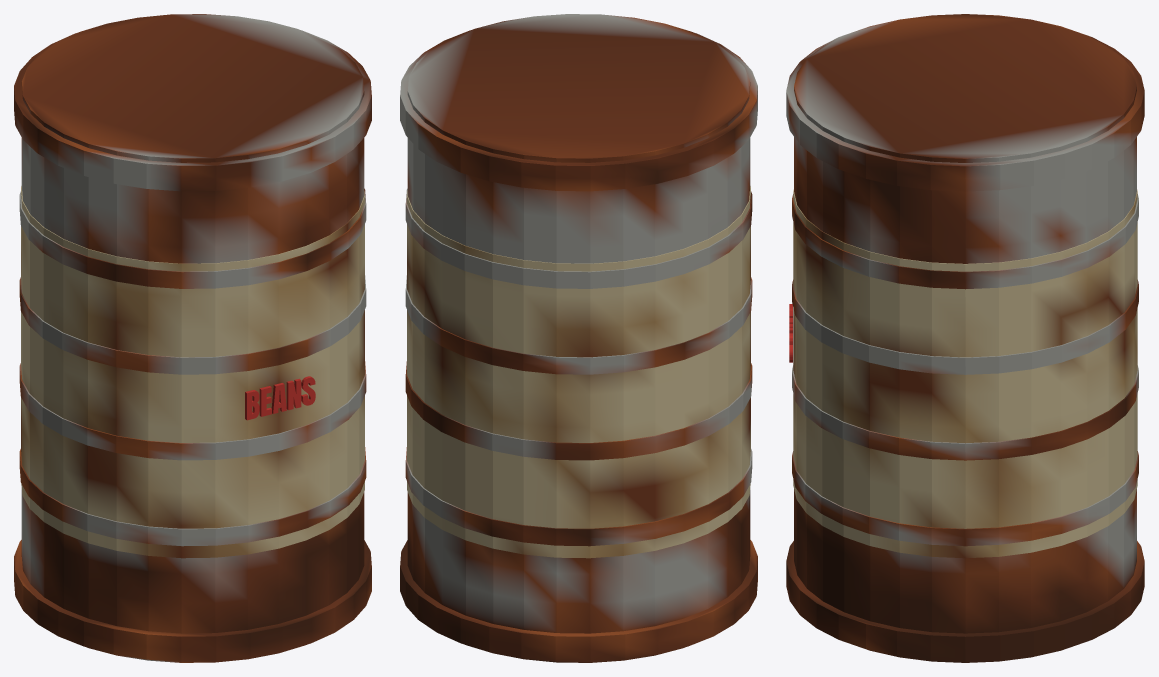
The model's file is FindCan.glb.
3 renders of one model, left to right at view 1: azimuth 30°, elevation 25°; view 2: azimuth 150°, elevation 25°; view 3: azimuth 270°, elevation 25°, orthographic.
Parts seen in each view (by area): view 1: Can2_4.001; view 2: Can2_4.001; view 3: Can2_4.001.
Part boxes in pixels (x1,y1,x2,y2): Can2_4.001: [14, 14, 371, 662]; Can2_4.001: [400, 14, 757, 662]; Can2_4.001: [786, 14, 1144, 662].
Size of the model in its own units: 0.0773 by 0.12 by 0.0773.
